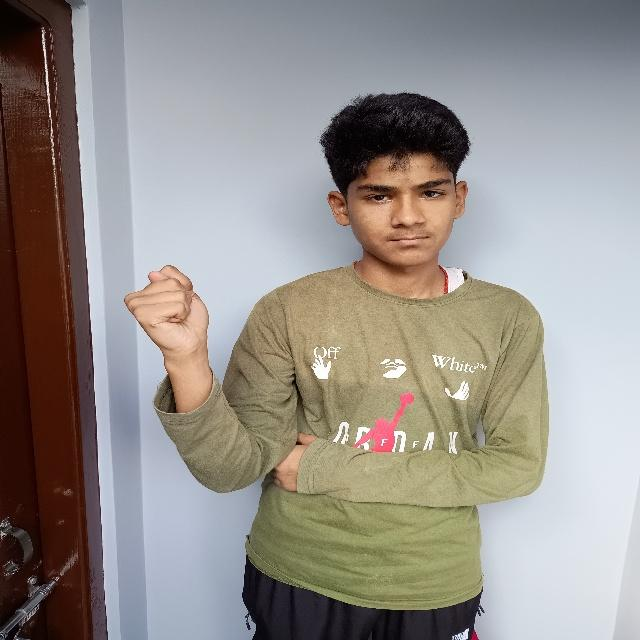Dulya: (118, 258, 229, 384)
